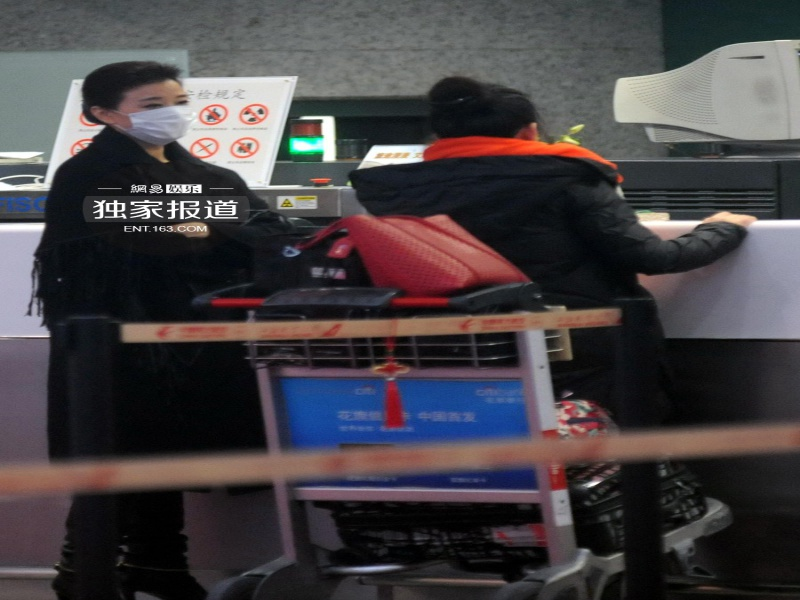mask: (68, 56, 198, 163)
